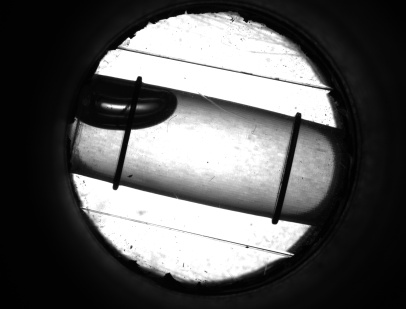line: (272, 133, 304, 204), (111, 137, 133, 170)
